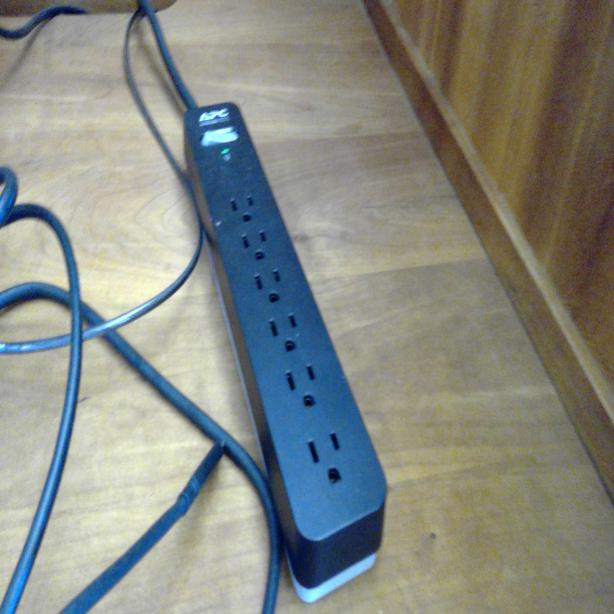typeb: (304, 428, 350, 486), (279, 361, 320, 414), (264, 310, 300, 351), (250, 266, 286, 304), (237, 222, 271, 262), (226, 183, 257, 224)
